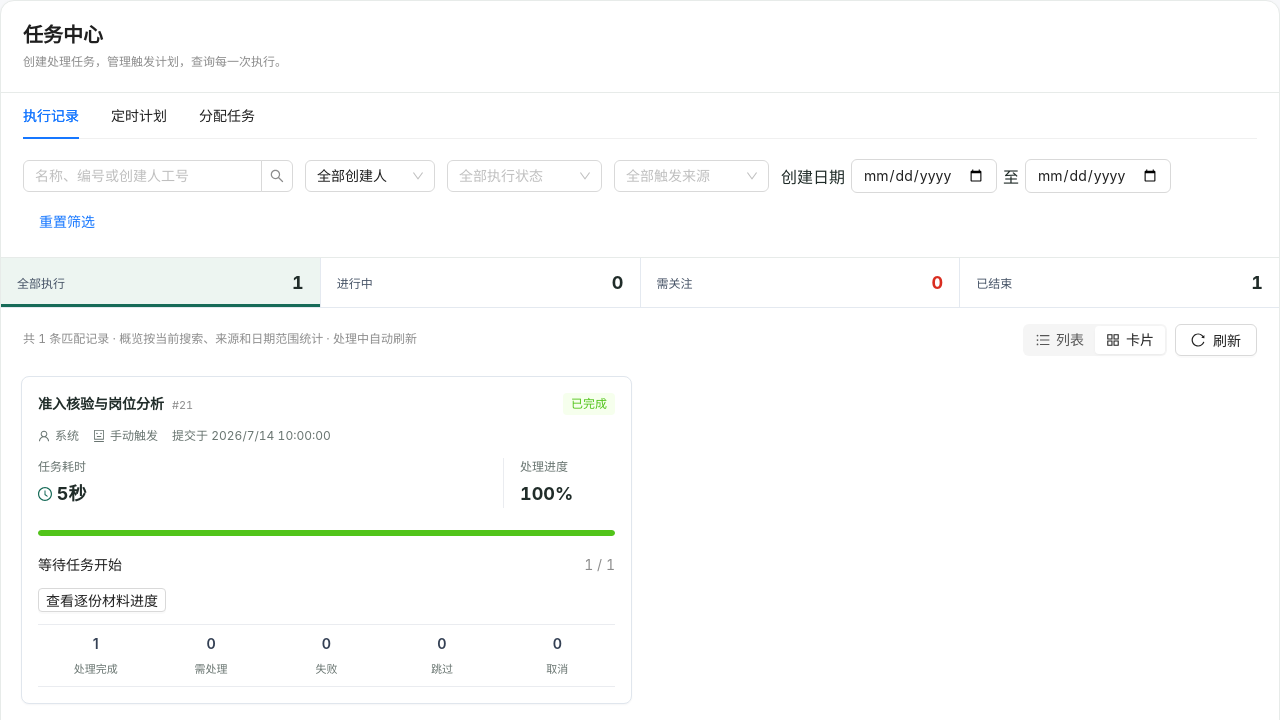
Test: ProcessingTaskCenter › switches between card and list views while keeping result navigation
Check: the text "任务耗时" is shown, box [38,459,86,474]
Click the text "列表". click: (1070, 339)
box: [1056,331,1084,348]
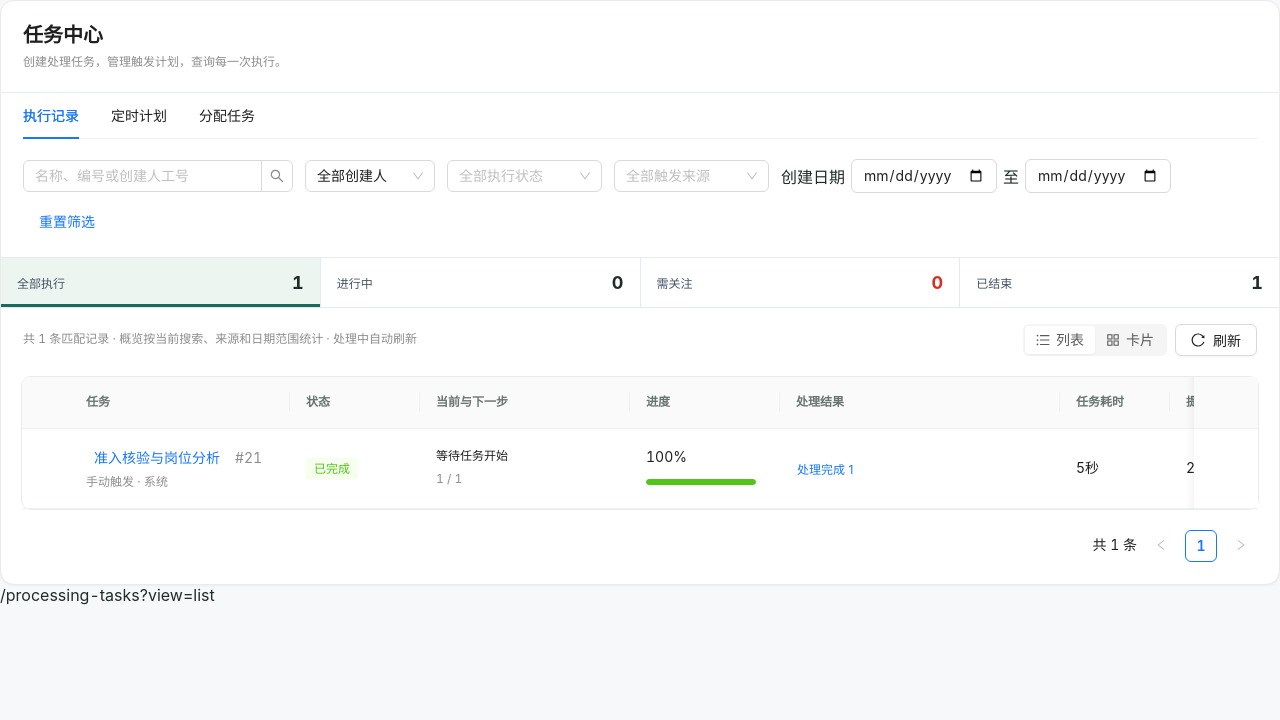
Check: the column heading "任务" is shown, box [70,377,290,429]
Check: the column heading "处理结果" is shown, box [780,377,1060,429]
Click the button with aria-label "筛选本任务处理完成简历 1 名". click: (825, 468)
box: [796,456,854,480]
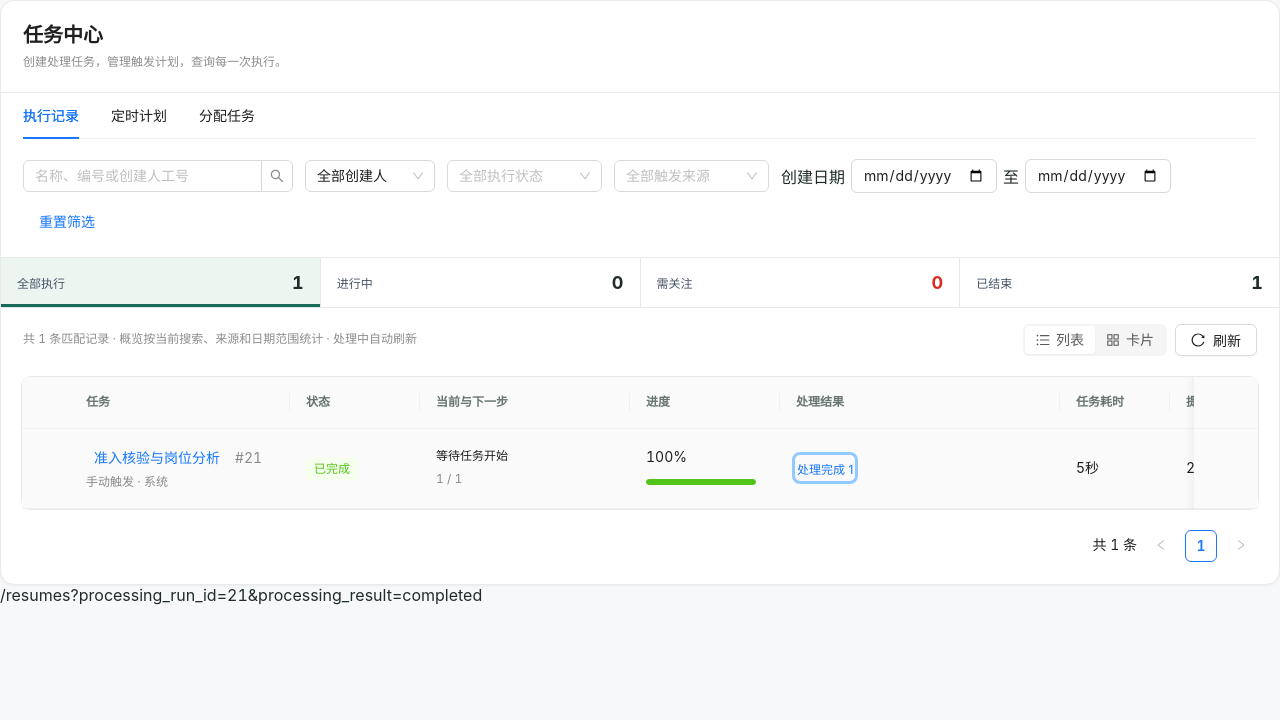
Check: the text with test id "location" reads "/resumes?processing_run_id=21&processing_result=completed", box [0,584,482,604]
Click the text "卡片". click: (1140, 339)
box: [1126,331,1154,348]
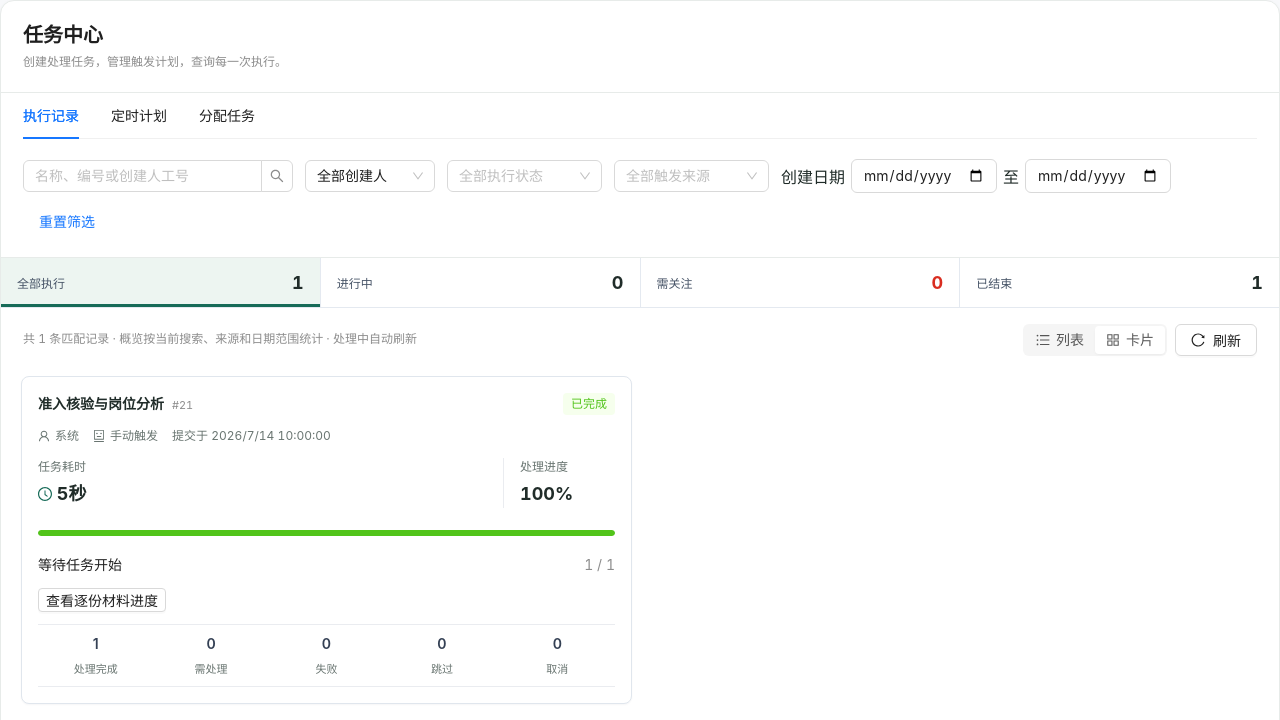
Check: the text "处理进度" is shown, box [520,459,568,474]
